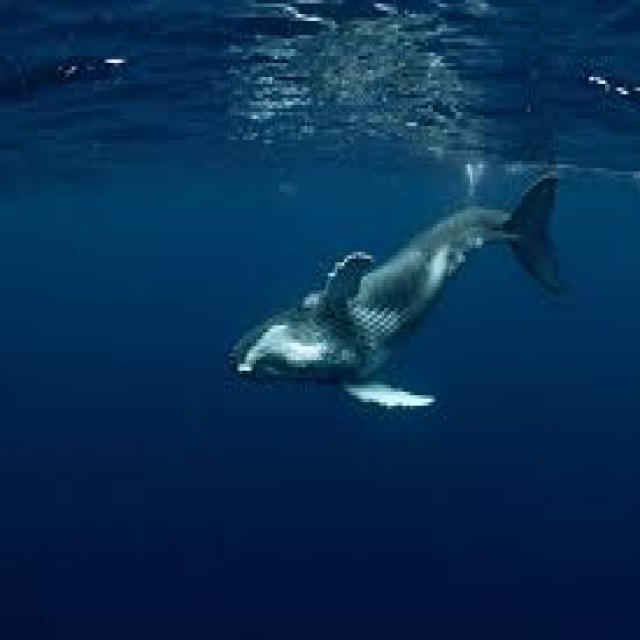blue_whale: (186, 154, 594, 479)
